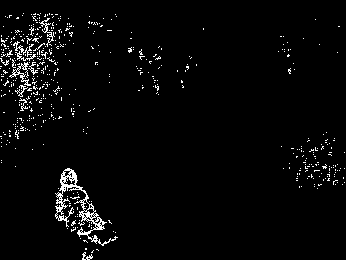person: (42, 164, 115, 260)
